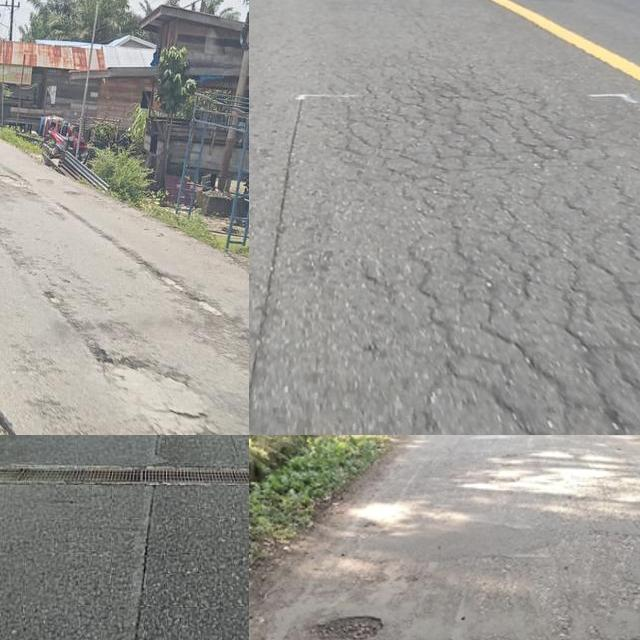Lubang: (302, 612, 385, 640)
Melintang: (0, 452, 249, 494)
Memanjang: (117, 435, 173, 640)
Retak Buaya: (322, 86, 640, 435)
